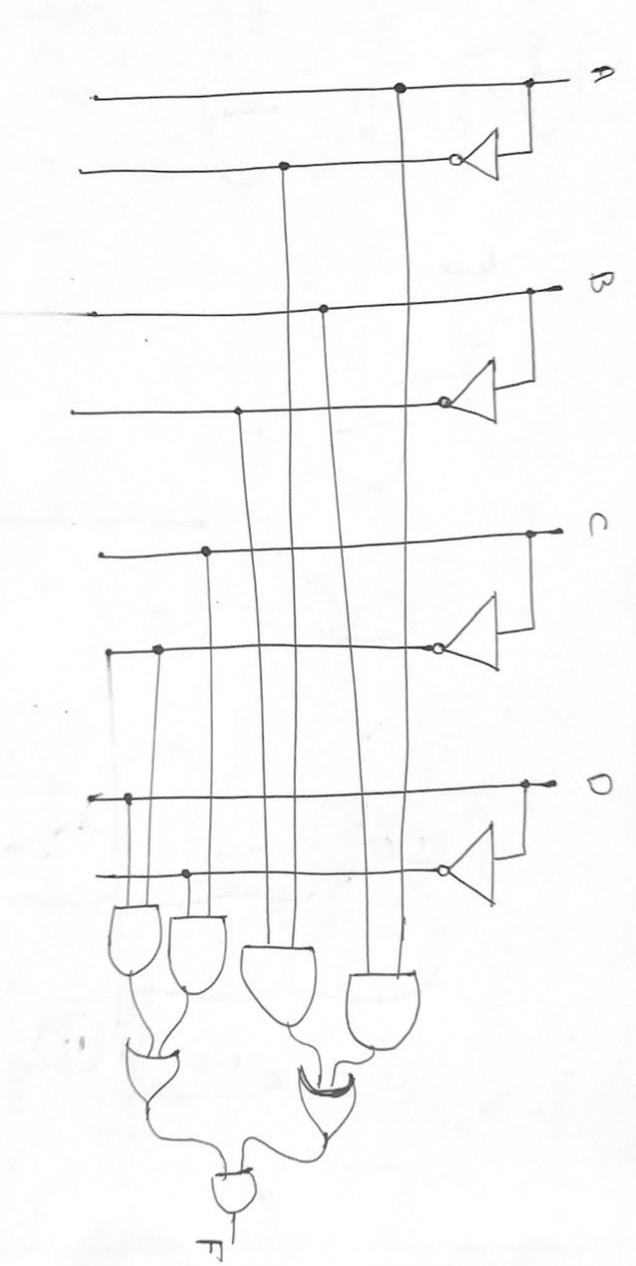AND: (342, 962, 430, 1058), (237, 937, 320, 1030), (165, 905, 235, 1006), (100, 902, 165, 987), (200, 1165, 278, 1230)
NOT: (423, 572, 530, 694), (418, 352, 530, 456), (422, 809, 513, 924), (440, 115, 517, 198)
OR: (108, 1027, 205, 1127), (292, 1060, 377, 1150)
